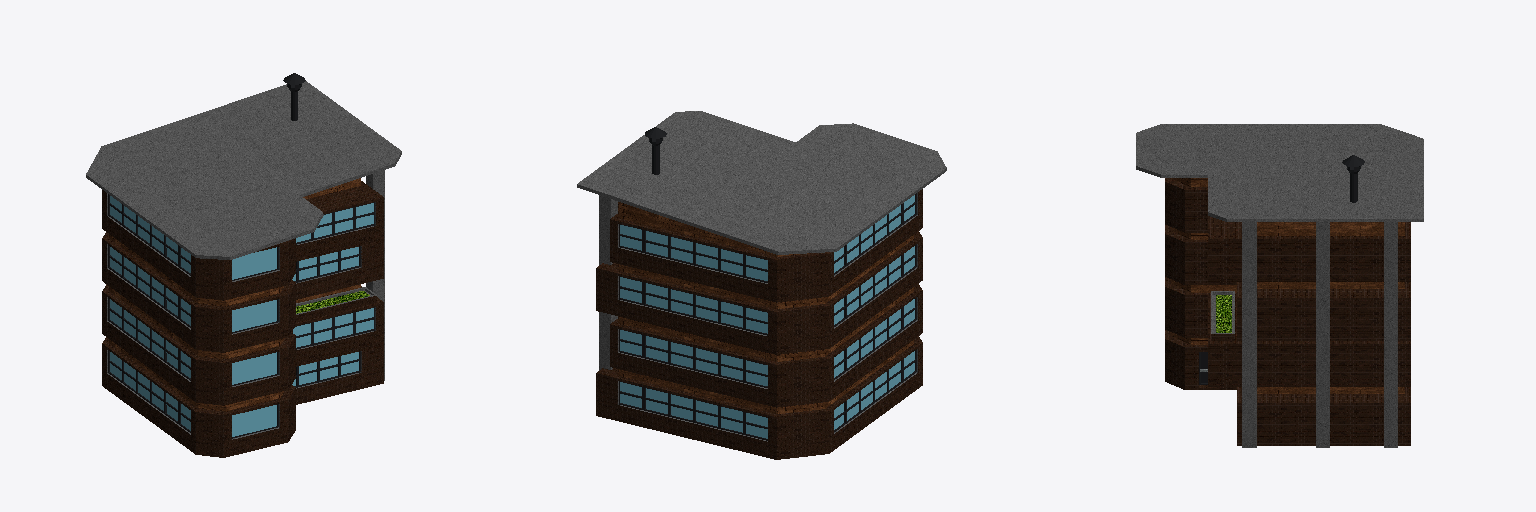
3 renders of one model, left to right at view 1: azimuth 30°, elevation 25°; view 2: azimuth 150°, elevation 25°; view 3: azimuth 270°, elevation 25°, orthographic.
Visible parts, largest first — view 1: Building_Small_DownTown11_Building_Small_DownTown11_Mesh.001; view 2: Building_Small_DownTown11_Building_Small_DownTown11_Mesh.001; view 3: Building_Small_DownTown11_Building_Small_DownTown11_Mesh.001.
Part boxes in pixels (bbox=[...]): Building_Small_DownTown11_Building_Small_DownTown11_Mesh.001: bbox=[86, 73, 401, 457]; Building_Small_DownTown11_Building_Small_DownTown11_Mesh.001: bbox=[577, 111, 946, 459]; Building_Small_DownTown11_Building_Small_DownTown11_Mesh.001: bbox=[1136, 124, 1423, 447].
Size of the model in its own units: 14.35 by 15.82 by 14.97.
Materials: 8 (7 with a texture image).